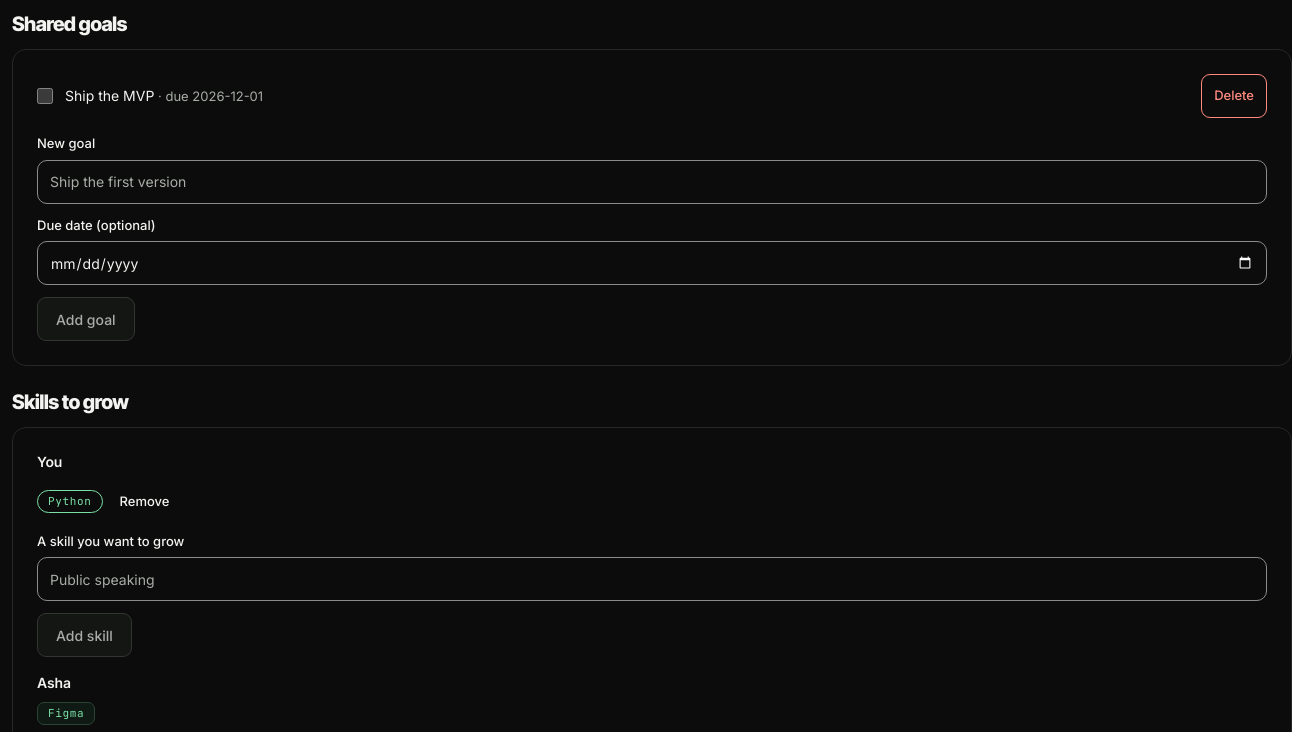
SpaceView › adds and removes your skills
In the field labelled "A skill you want to grow": (652, 579) top-left (37, 557), bottom-right (1267, 601), type "SQL"
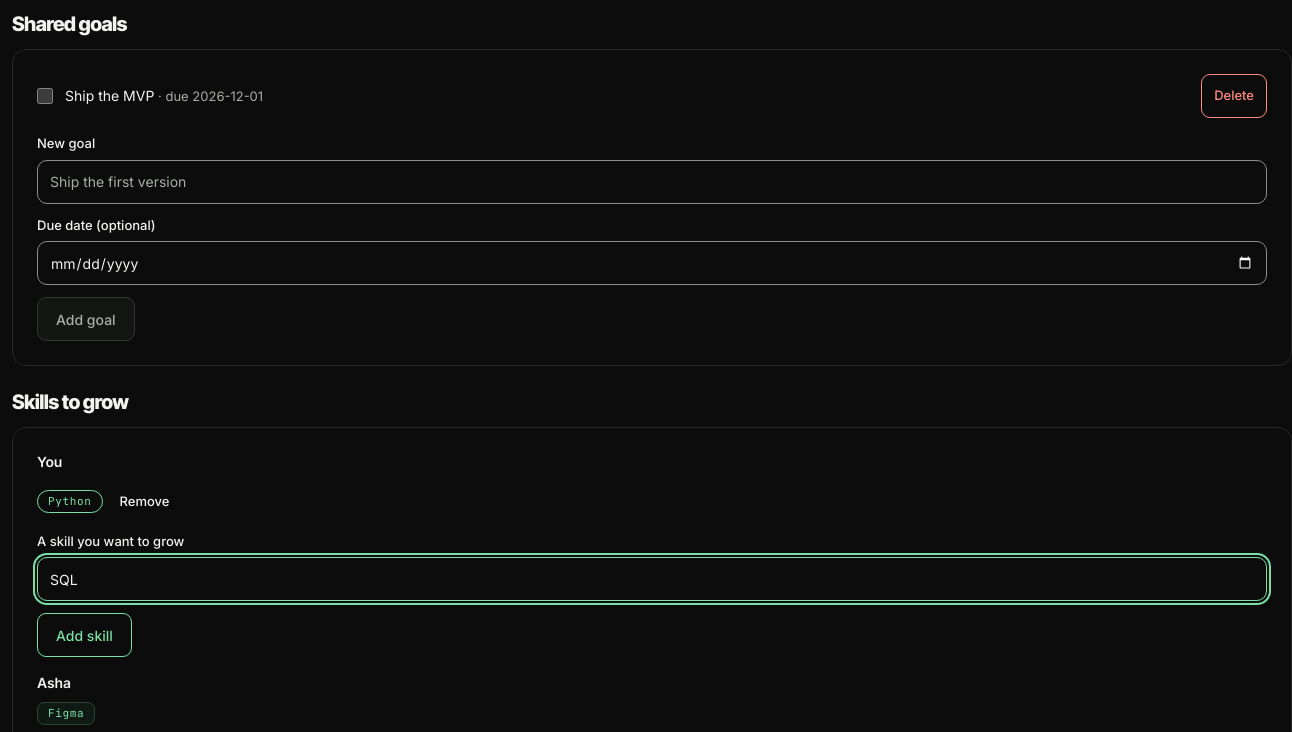
Click the button "Add skill": (84, 635) top-left (37, 613), bottom-right (132, 657)
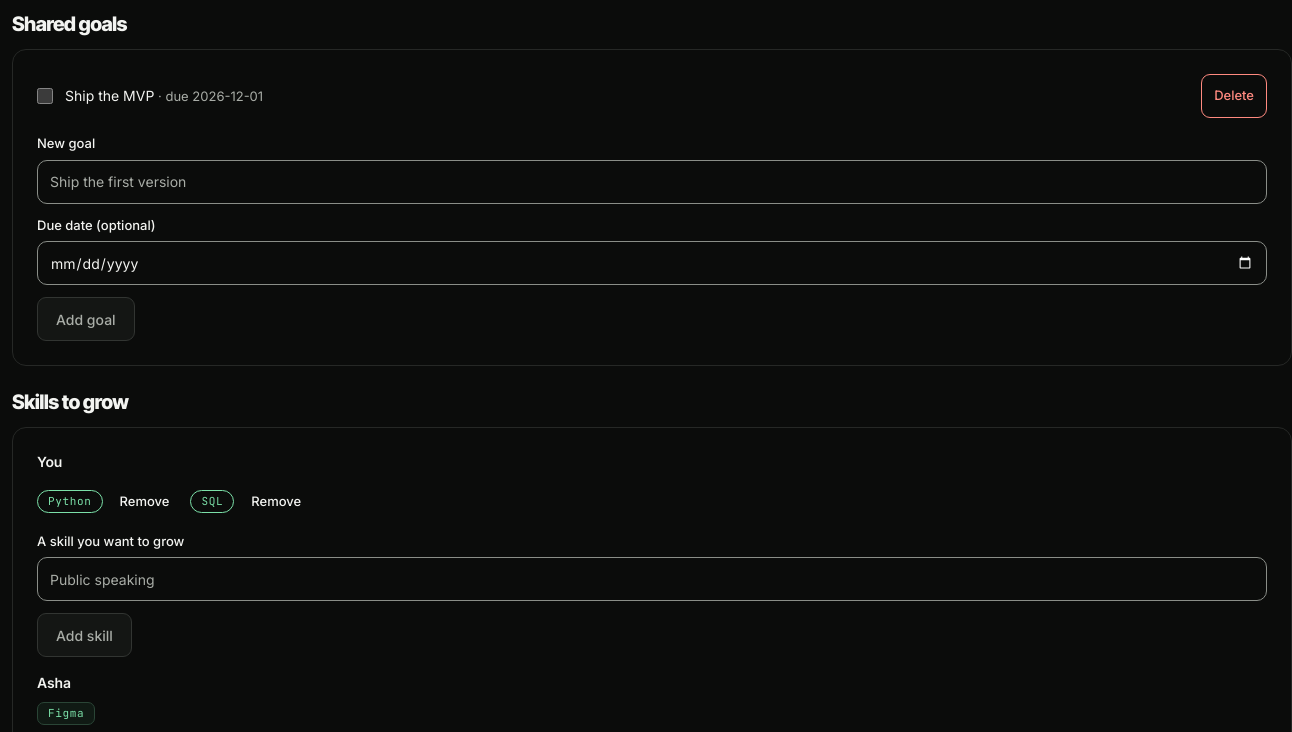
Now the text "SQL" is shown, box top-left (190, 490), bottom-right (234, 513)
Click the button with aria-label "Remove Python": (145, 502) top-left (107, 480), bottom-right (182, 524)
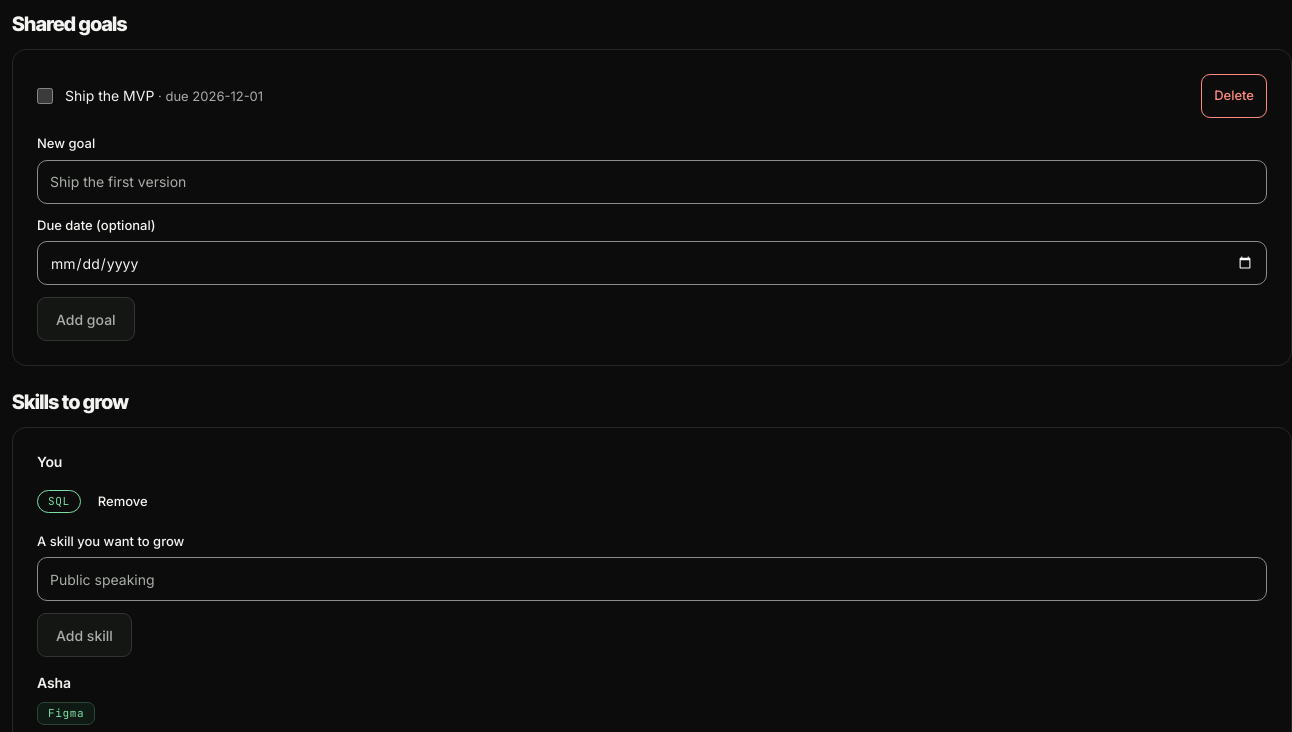
Now the text "Python" is gone
